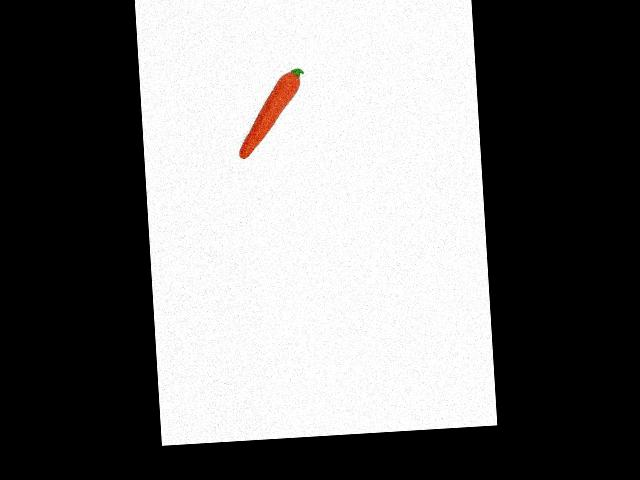carrot: (234, 70, 305, 160)
